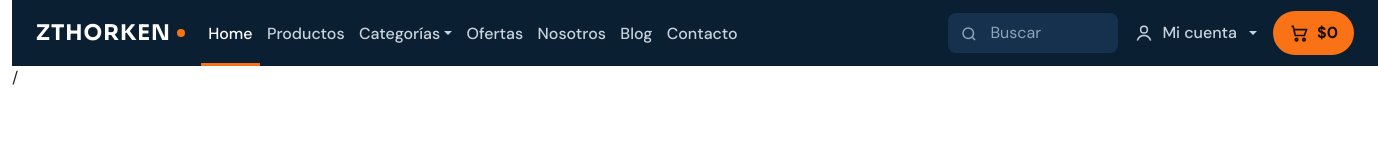
Test: Navbar › al buscar navega a productos con el texto
The width and height of the screenshot is (1378, 160).
In the search field named "Buscar productos": (1053,33) top-left (988, 20), bottom-right (1118, 46), type "notebook asus"
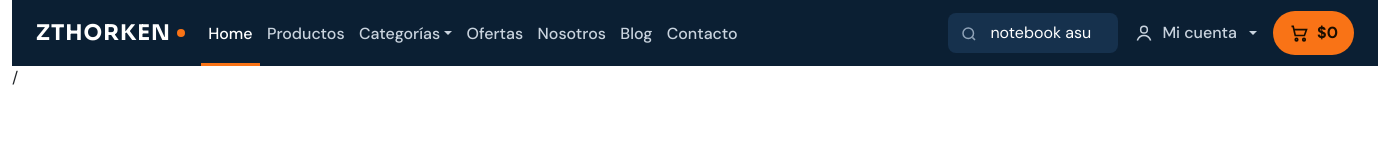
Click the button named "Buscar": (968,33) top-left (948, 13), bottom-right (988, 53)
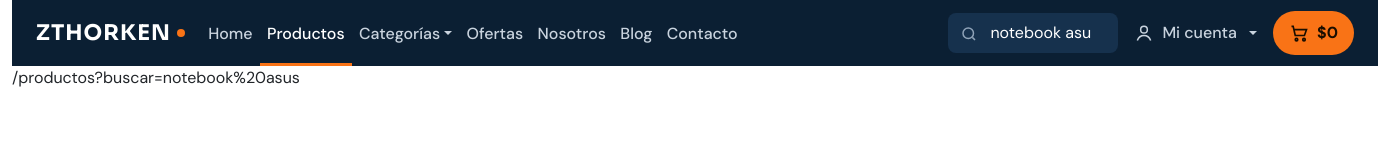
Now the text with test id "ubicacion" reads "/productos?buscar=notebook%20asus", box top-left (12, 67), bottom-right (300, 88)
